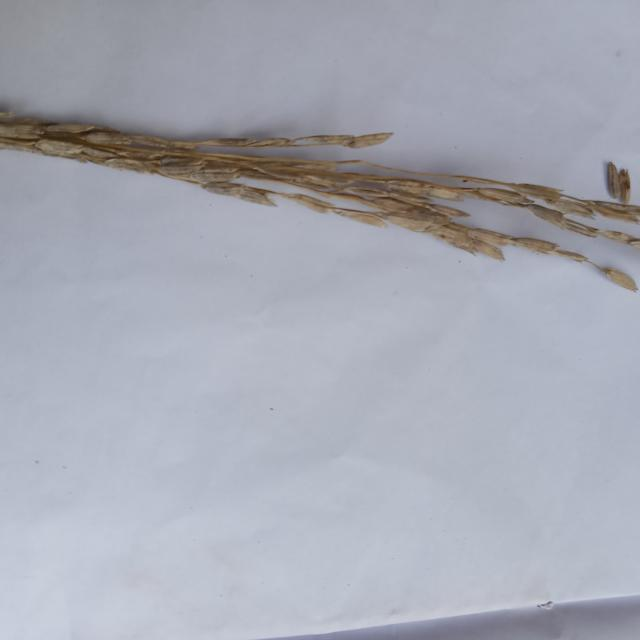Neck_Blast: (6, 103, 640, 300)
